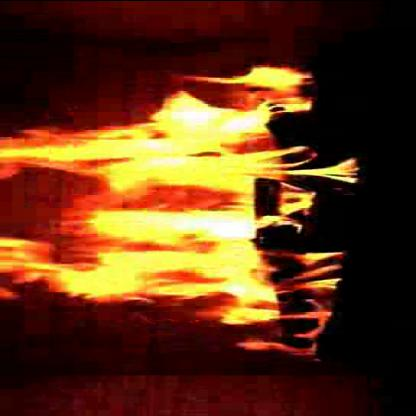Fire: (6, 104, 252, 304)
